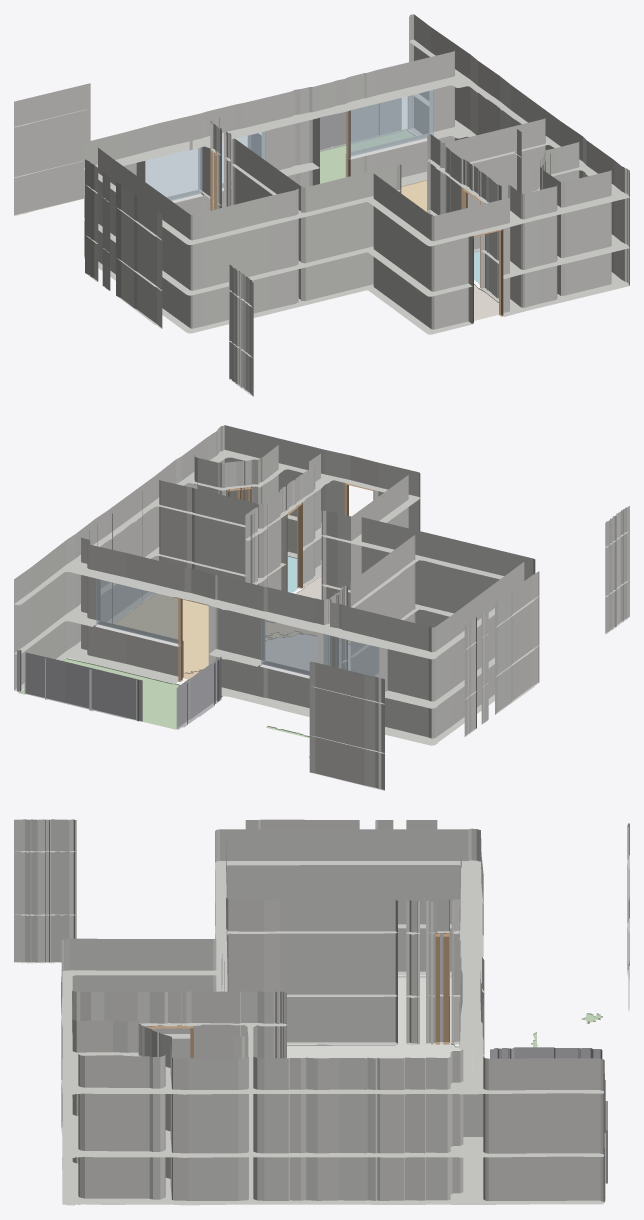
The picture shows the model from 3 angles, top to bottom: view 1: azimuth 30°, elevation 25°; view 2: azimuth 150°, elevation 25°; view 3: azimuth 270°, elevation 25°; orthographic projection. The views are drawn at different scales.
Parts seen in each view (by area): view 1: walls, window_9, railings, window_7, floor_2_Outdoor, door_6, floor_10_Entry, window_8; view 2: walls, railings, window_9, floor_5_Kitchen, window_8, floor_2_Outdoor, window_7, floor_12_Undefined, door_3; view 3: walls, floor_12_Undefined, railings, door_1, door_2.
Boxes of the visible parts, <box> form: walls: <box>14,14,629,396</box>; window_9: <box>348,89,433,156</box>; railings: <box>248,96,408,157</box>; window_7: <box>145,147,202,200</box>; floor_2_Outdoor: <box>320,129,415,183</box>; door_6: <box>472,229,503,323</box>; floor_10_Entry: <box>474,284,498,320</box>; window_8: <box>222,131,265,188</box>; walls: <box>14,425,629,790</box>; railings: <box>17,650,221,729</box>; window_9: <box>96,574,179,643</box>; floor_5_Kitchen: <box>114,593,208,673</box>; window_8: <box>261,618,316,675</box>; floor_2_Outdoor: <box>18,658,222,729</box>; window_7: <box>323,634,379,677</box>; floor_12_Undefined: <box>265,633,378,677</box>; door_3: <box>286,502,302,591</box>; walls: <box>14,819,629,1205</box>; floor_12_Undefined: <box>287,976,459,1058</box>; railings: <box>490,1047,607,1200</box>; door_1: <box>443,933,449,1044</box>; door_2: <box>435,932,439,1044</box>.
Bounding box in the file's own units: 9.9 × 2.72 × 10.58.
